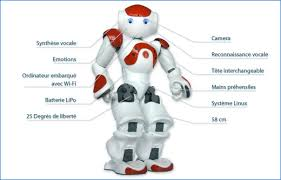nao: (90, 4, 200, 180)
